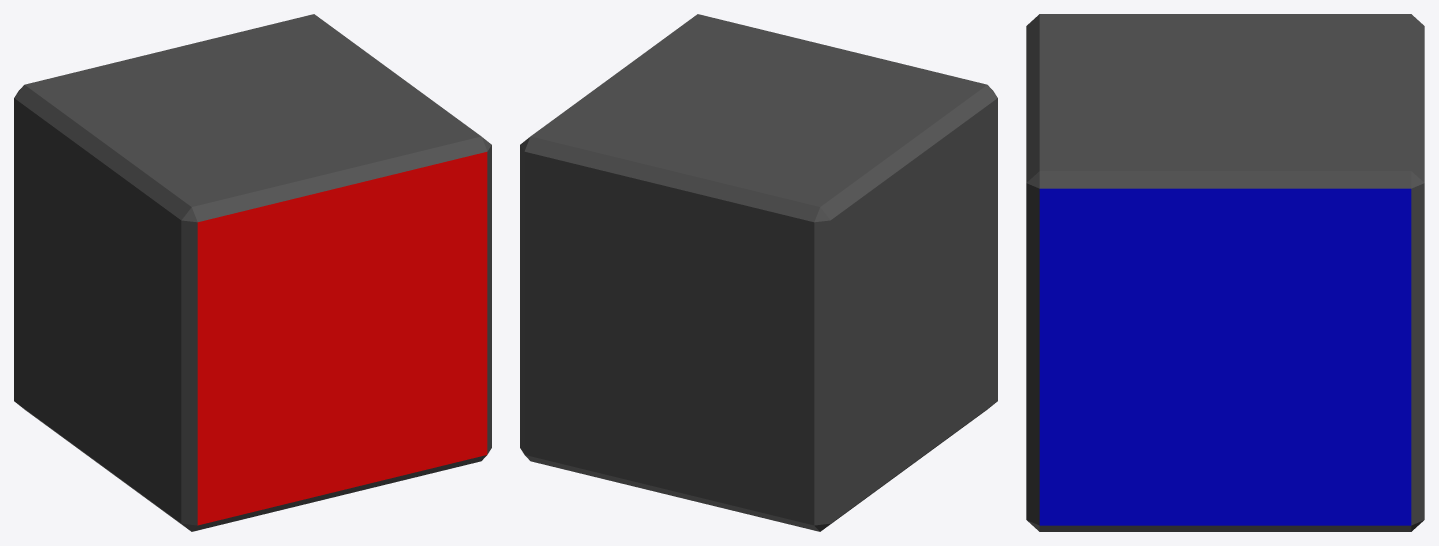
Rendered from rby.obj.
The picture shows the model from 3 angles, left to right: view 1: azimuth 30°, elevation 25°; view 2: azimuth 150°, elevation 25°; view 3: azimuth 270°, elevation 25°; orthographic projection. The views are drawn at different scales.
Visible parts, largest first — view 1: Cube_Cube.001; view 2: Cube_Cube.001; view 3: Cube_Cube.001.
Boxes of the visible parts, bbox=[...] form: Cube_Cube.001: bbox=[14, 14, 491, 531]; Cube_Cube.001: bbox=[520, 14, 997, 531]; Cube_Cube.001: bbox=[1026, 14, 1424, 531].
Size of the model in its own units: 20 by 20 by 20.
